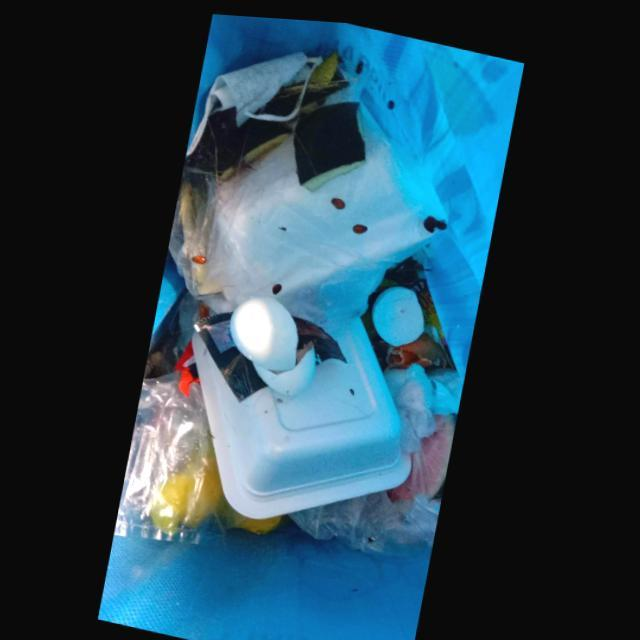biowaste: (230, 287, 300, 367), (254, 337, 318, 393), (373, 280, 426, 341)
styrofoam: (193, 312, 414, 515)
wrapper: (198, 308, 269, 399), (294, 312, 349, 358)
